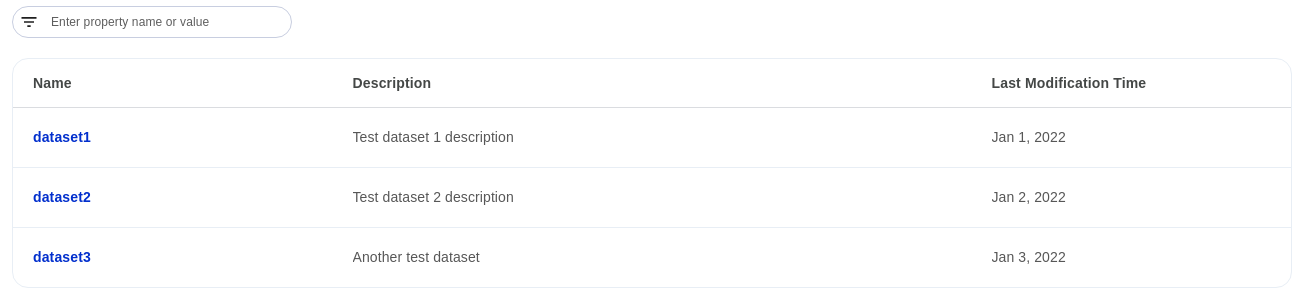
Test: EntryList › handles case insensitive search via chip
Expected: the text "dataset1" is shown, [33,128,91,144]
Type "DATASET1" into the field with placeholder "Enter property name or value".
click(167, 22); type("DATASET1")  # box [47,9,287,35]
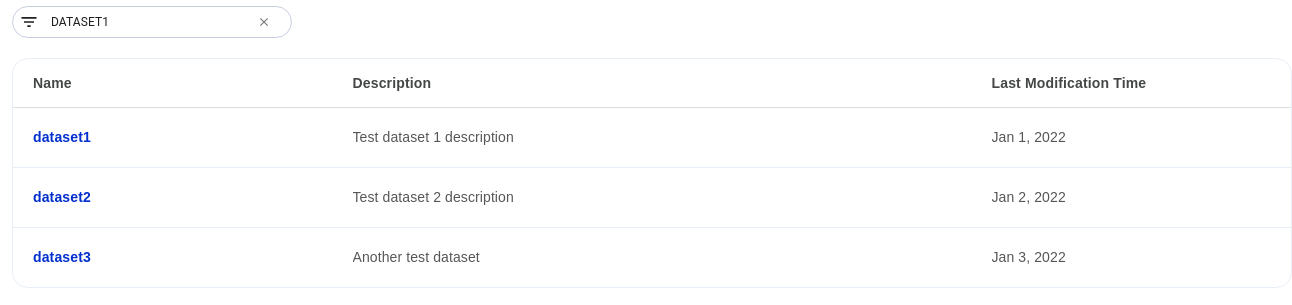
Press Enter in the field with placeholder "Enter property name or value", box [47,9,247,35]
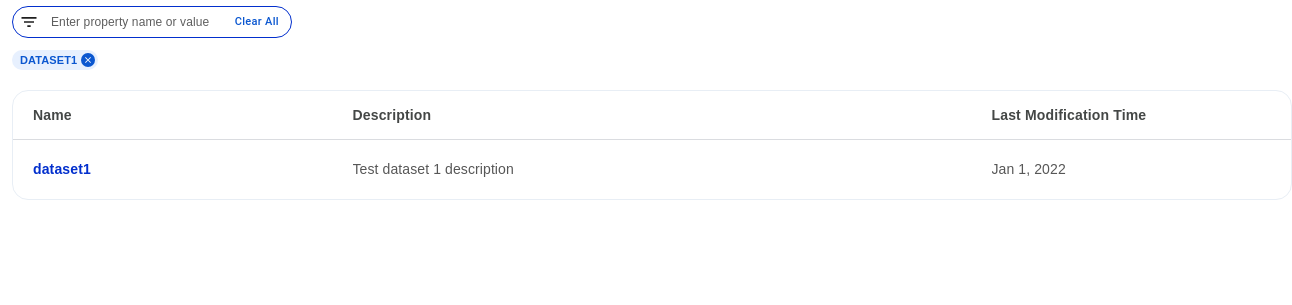
Expected: the text "dataset1" is shown, [33,161,91,177]
Now the text "dataset2" is gone
